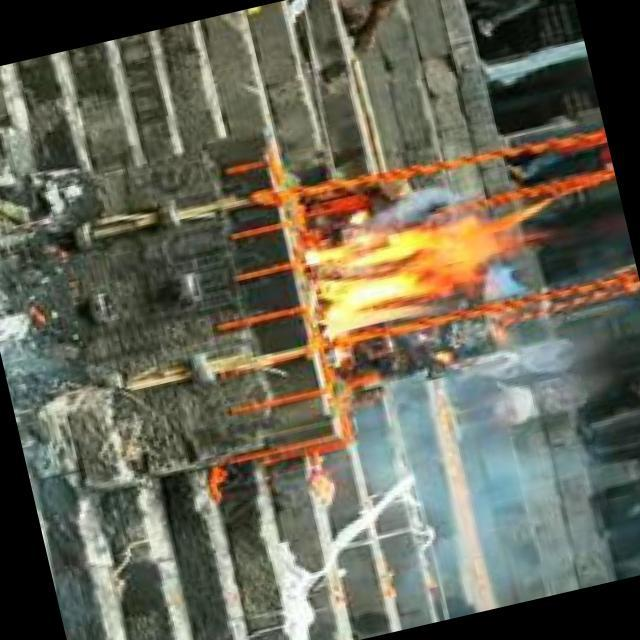Fire: (290, 196, 533, 347)
